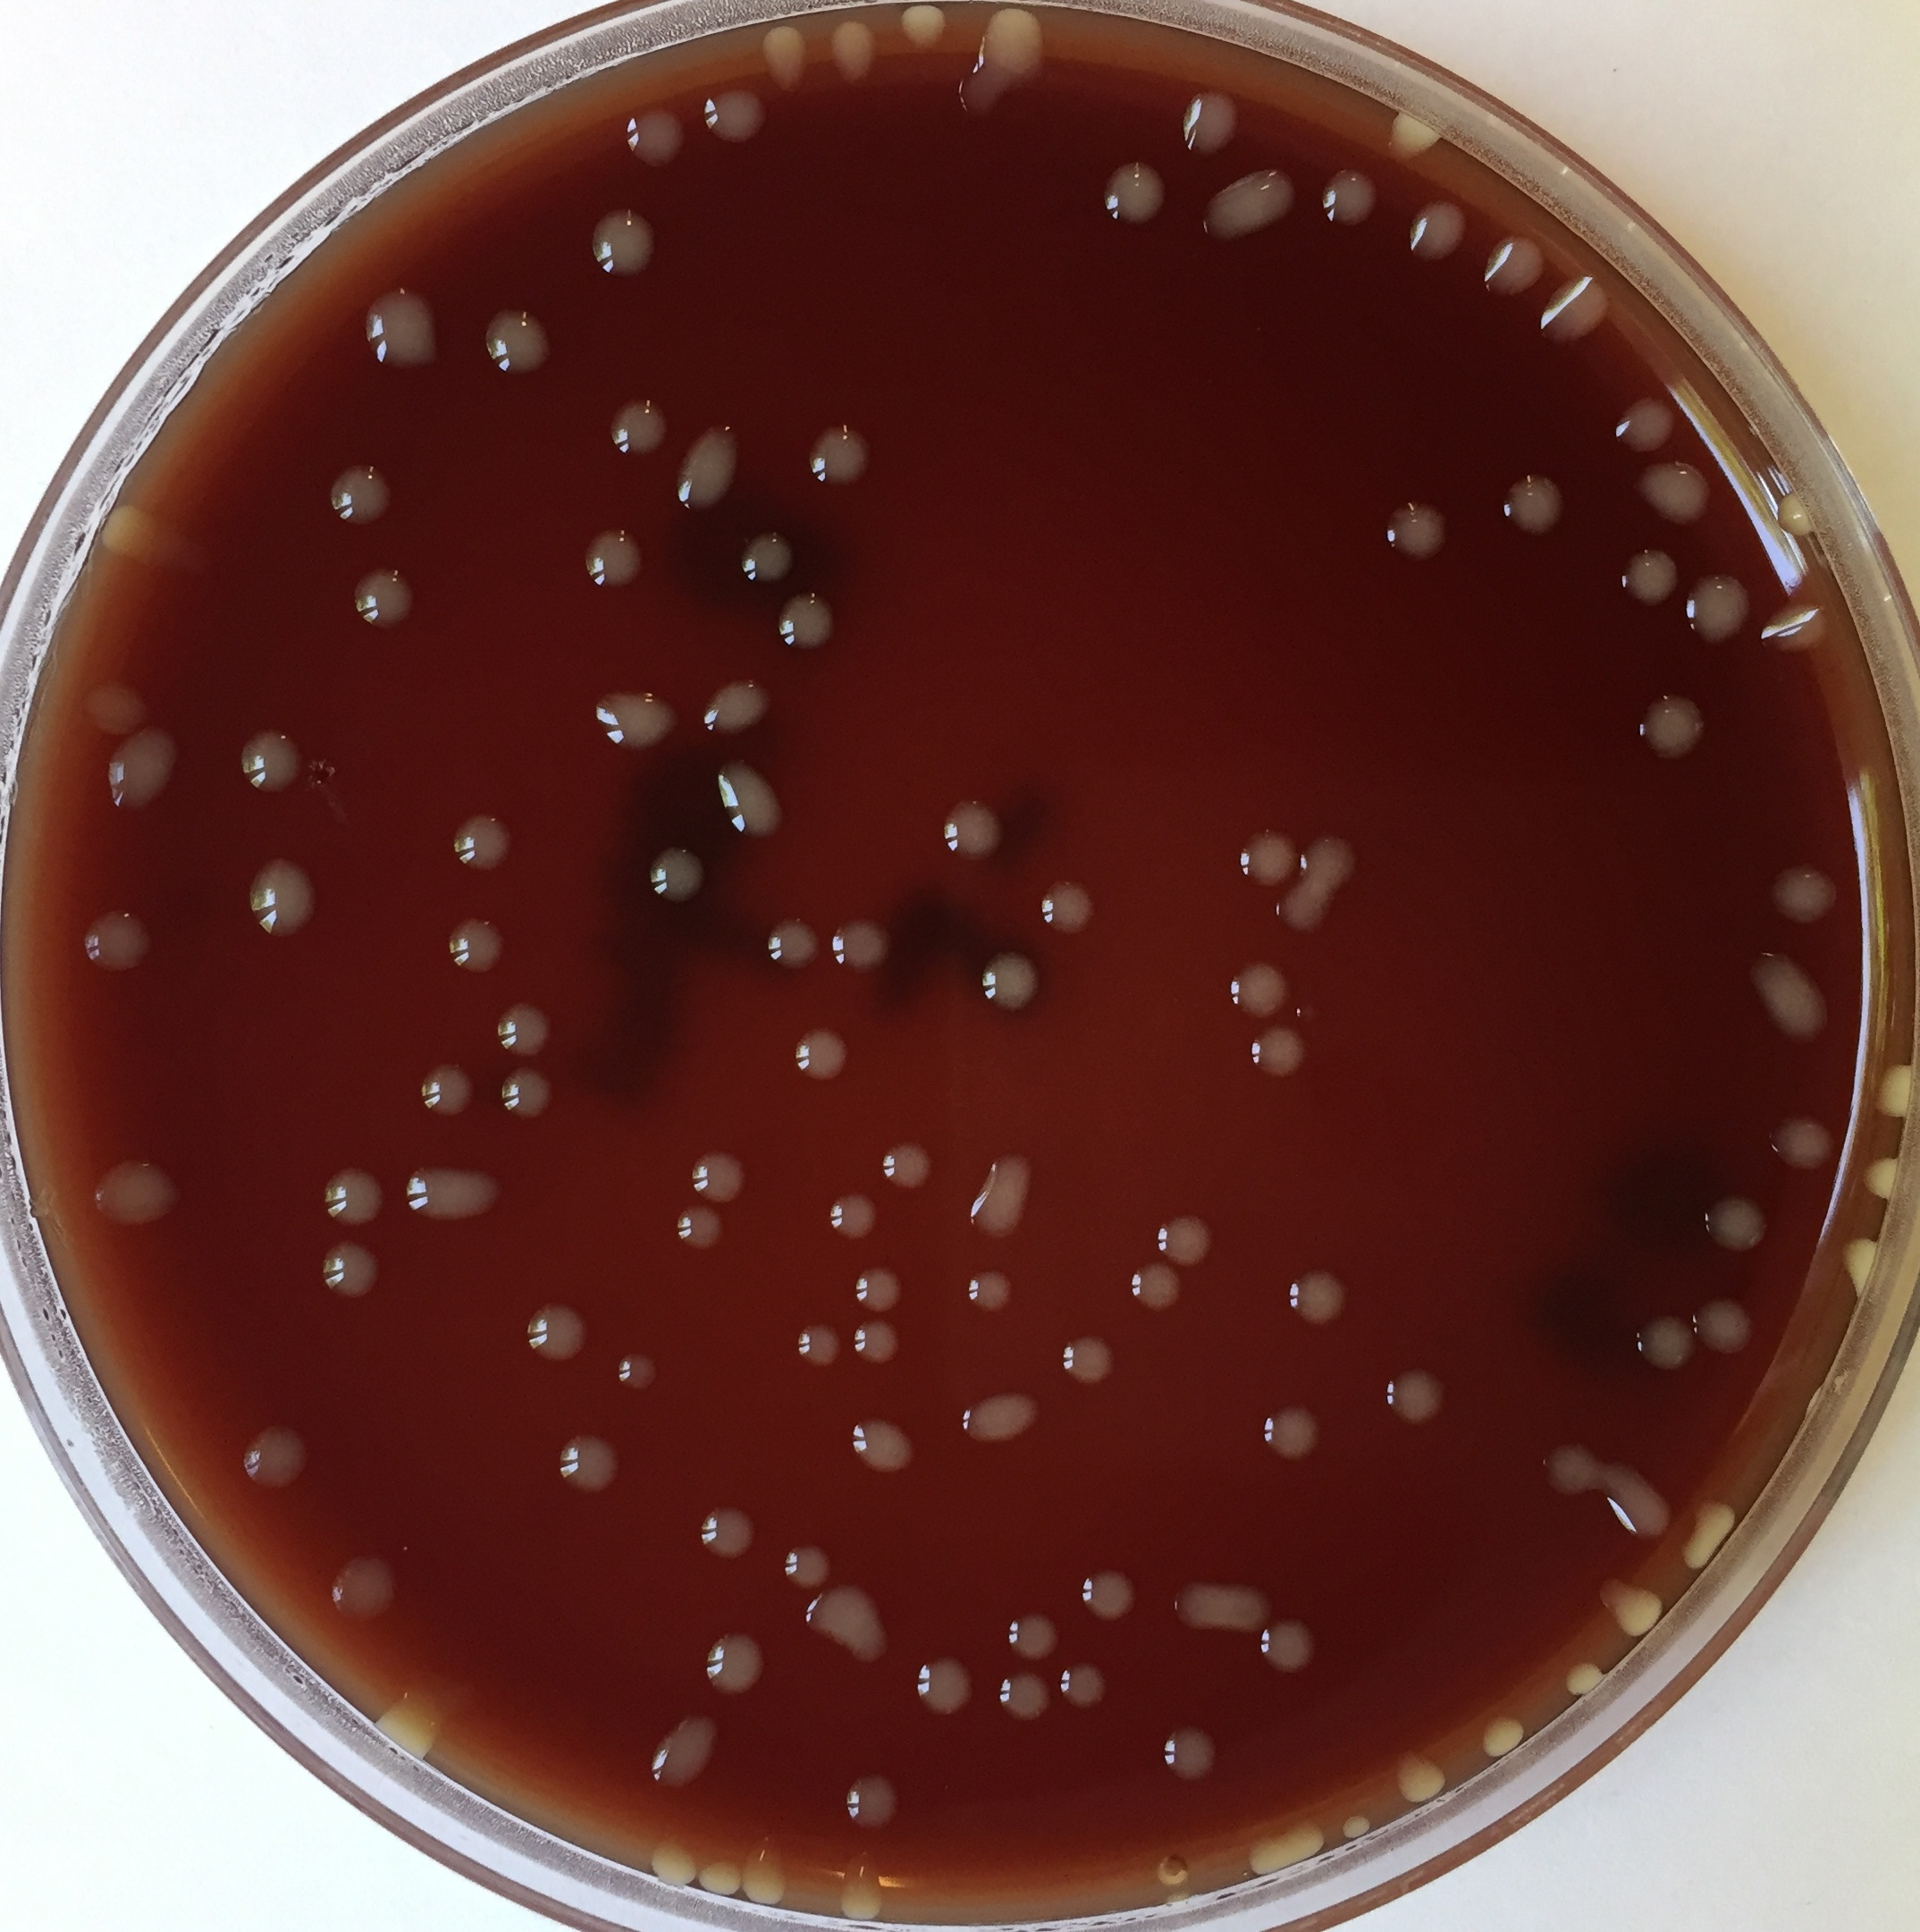sp19: (958, 7, 1060, 123), (1742, 948, 1837, 1051), (375, 1654, 466, 1761), (105, 721, 186, 816), (805, 1580, 895, 1663), (1210, 163, 1301, 244), (1164, 1577, 1276, 1642), (955, 1376, 1044, 1457), (353, 288, 443, 369), (1595, 1454, 1672, 1547), (964, 1146, 1039, 1241), (241, 856, 324, 942), (83, 1157, 186, 1225), (401, 1160, 508, 1225), (593, 686, 686, 758), (714, 756, 789, 844), (640, 1714, 723, 1793), (1635, 455, 1720, 533), (1245, 1610, 1331, 1684), (672, 424, 745, 510), (587, 206, 666, 285), (930, 798, 1016, 870), (1589, 1568, 1667, 1645), (844, 1412, 927, 1482), (1094, 158, 1176, 229), (475, 308, 557, 378), (1380, 496, 1461, 566), (77, 907, 160, 976), (322, 1556, 408, 1619), (241, 1419, 315, 1491), (1243, 1816, 1331, 1876), (1405, 192, 1472, 269), (696, 83, 779, 144), (72, 677, 155, 738), (1700, 1192, 1774, 1260), (1500, 469, 1567, 545), (1684, 570, 1753, 642), (702, 675, 774, 744), (1380, 1369, 1456, 1434), (1637, 693, 1707, 761), (582, 524, 651, 594), (700, 1630, 772, 1696), (617, 102, 689, 169), (1767, 858, 1841, 923), (1178, 91, 1243, 165), (90, 494, 149, 573), (1626, 1310, 1697, 1376), (1479, 230, 1545, 301), (1538, 278, 1609, 345), (913, 1652, 978, 1725), (316, 464, 390, 527), (833, 1844, 891, 1923), (802, 425, 870, 492), (554, 1433, 626, 1496), (1607, 394, 1683, 454), (738, 1830, 796, 1907), (828, 912, 895, 979), (1037, 870, 1104, 937), (1238, 821, 1305, 888), (839, 1765, 907, 1830), (316, 1236, 385, 1301), (445, 911, 510, 979), (1767, 1113, 1837, 1176), (1157, 1723, 1224, 1788), (1224, 958, 1289, 1025), (605, 394, 670, 461), (348, 566, 415, 631), (236, 733, 304, 796), (318, 1166, 389, 1227), (1691, 1294, 1764, 1354), (735, 527, 807, 587), (1758, 601, 1832, 659), (1542, 1438, 1607, 1503), (695, 1501, 761, 1565), (647, 839, 710, 905), (1619, 543, 1683, 610), (526, 1299, 589, 1364), (974, 951, 1039, 1014), (1153, 1209, 1220, 1271), (1287, 1267, 1350, 1331), (823, 16, 886, 79), (687, 1146, 753, 1208), (1319, 167, 1380, 232), (1259, 1399, 1326, 1459), (756, 21, 812, 91), (450, 814, 513, 875), (1296, 832, 1361, 891), (1688, 1493, 1734, 1575), (1080, 1566, 1139, 1628), (417, 1060, 476, 1122), (1062, 1324, 1118, 1389), (774, 592, 840, 647), (763, 911, 823, 970), (793, 1023, 855, 1081), (496, 1064, 559, 1120), (644, 1834, 709, 1888), (496, 1000, 556, 1058), (1248, 1021, 1310, 1078), (997, 1667, 1055, 1725), (1393, 1747, 1454, 1802), (608, 1345, 670, 1398), (1382, 109, 1445, 160), (1057, 1654, 1113, 1710), (821, 1190, 886, 1238), (673, 1199, 728, 1255), (1129, 1260, 1185, 1315), (851, 1315, 905, 1369), (1004, 1609, 1060, 1661), (1873, 1058, 1918, 1122), (791, 1318, 844, 1373), (851, 1262, 905, 1315), (967, 1266, 1022, 1318), (881, 1141, 941, 1188), (1473, 1710, 1526, 1761), (695, 1856, 751, 1902), (779, 1542, 835, 1587), (1837, 1236, 1881, 1294), (1278, 884, 1327, 935), (1778, 489, 1820, 545), (1860, 1153, 1902, 1204), (1561, 1656, 1611, 1698), (1338, 1809, 1373, 1844), (1291, 999, 1324, 1025)
